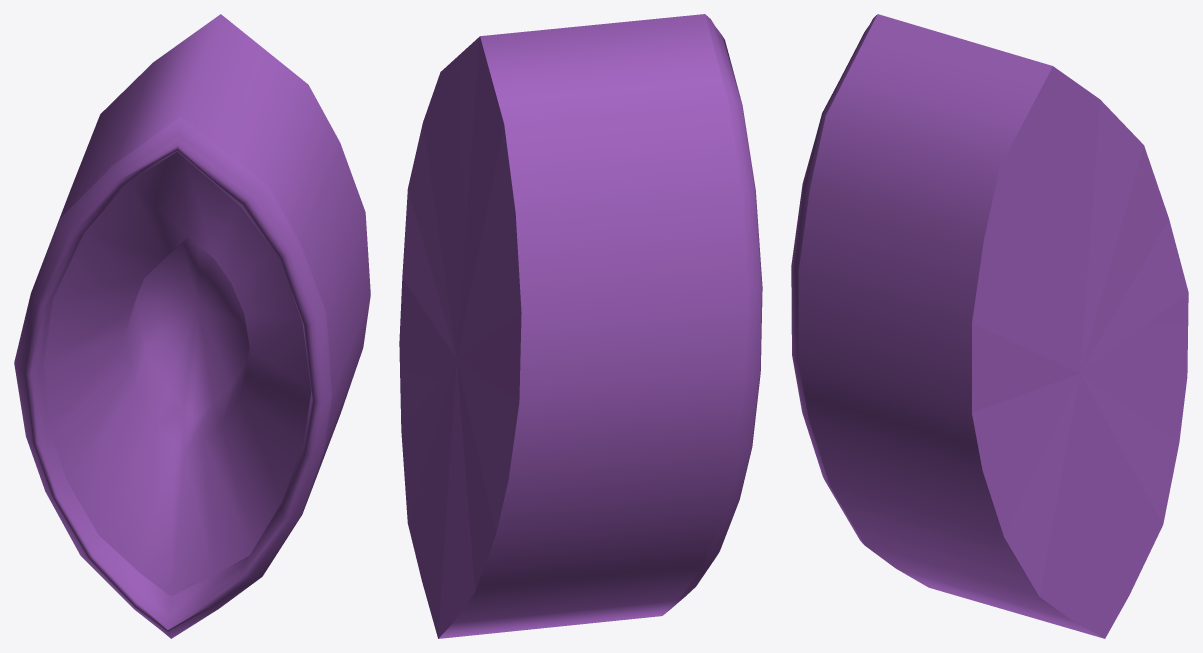
The model's file is BL3_8shapes_Marquise_Classic_Metal.001 3.glb.
3 views of the same model, side by side, from view 1: azimuth 30°, elevation 25°; view 2: azimuth 150°, elevation 25°; view 3: azimuth 270°, elevation 25° (orthographic). The views are drawn at different scales.
Visible parts, largest first — view 1: BL3_8shapes_Marquise_Classic_Metal.001; view 2: BL3_8shapes_Marquise_Classic_Metal.001; view 3: BL3_8shapes_Marquise_Classic_Metal.001.
Part boxes in pixels (<box>): BL3_8shapes_Marquise_Classic_Metal.001: <box>14,14,370,638</box>; BL3_8shapes_Marquise_Classic_Metal.001: <box>399,14,762,638</box>; BL3_8shapes_Marquise_Classic_Metal.001: <box>791,14,1188,638</box>.
Size of the model in its own units: 0.4976 by 0.7763 by 0.4843.
